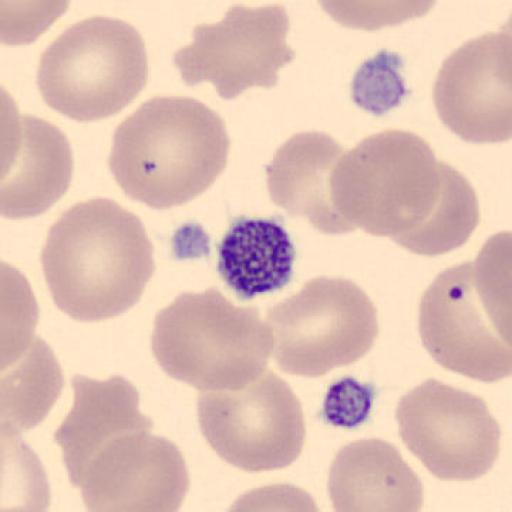Platelet: (214, 211, 298, 302), (347, 46, 412, 118), (314, 372, 379, 433)
RBC: (38, 194, 156, 325), (107, 92, 233, 212), (148, 285, 276, 393), (34, 13, 151, 125), (262, 272, 381, 381), (415, 254, 512, 384), (329, 126, 440, 239), (172, 2, 296, 102), (195, 370, 308, 475), (56, 372, 154, 492), (394, 376, 502, 484), (263, 128, 359, 238), (431, 24, 512, 147), (388, 159, 482, 257), (80, 430, 192, 512), (2, 113, 76, 221), (461, 230, 512, 384), (326, 434, 425, 512), (2, 335, 66, 431), (0, 259, 40, 376), (473, 227, 512, 347), (1, 421, 52, 512), (312, 0, 445, 32), (217, 479, 322, 512), (2, 0, 73, 47), (0, 81, 24, 217), (0, 82, 23, 185)
